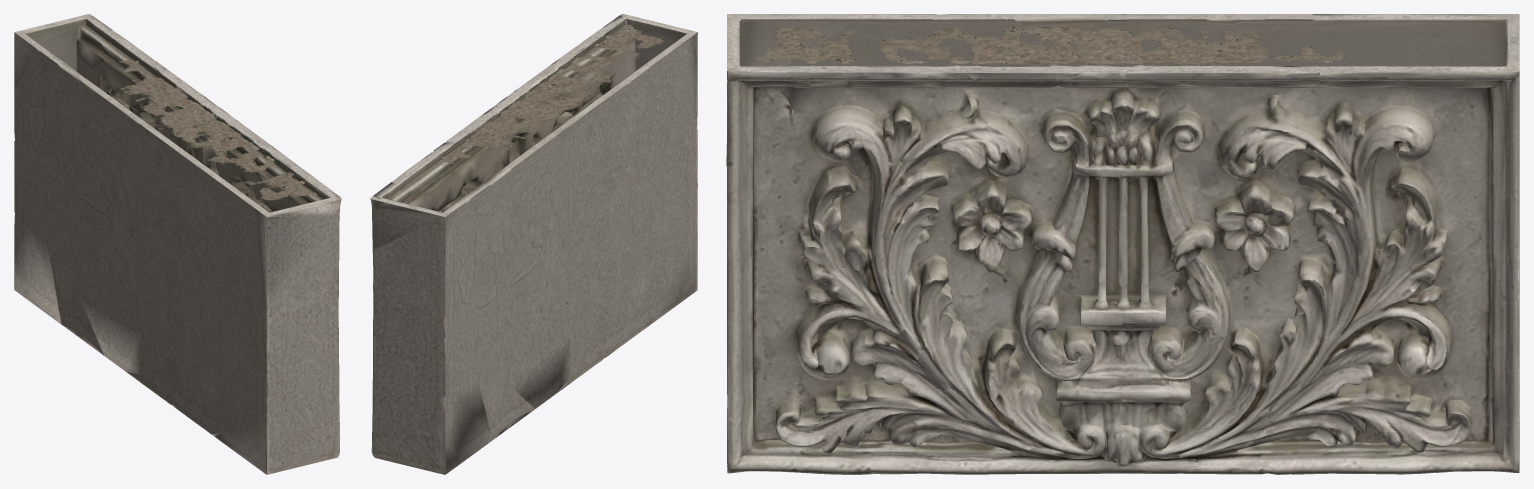
The model's file is relief-6.glb.
3 renders of one model, left to right at view 1: azimuth 30°, elevation 25°; view 2: azimuth 150°, elevation 25°; view 3: azimuth 270°, elevation 25°, orthographic. The views are drawn at different scales.
Visible parts, largest first — view 1: tripo_node_3a7adda7-f94a-40d0-b8b8-df14ac11d140; view 2: tripo_node_3a7adda7-f94a-40d0-b8b8-df14ac11d140; view 3: tripo_node_3a7adda7-f94a-40d0-b8b8-df14ac11d140.
Part boxes in pixels (x1=…): tripo_node_3a7adda7-f94a-40d0-b8b8-df14ac11d140: x1=14, y1=14, x2=341, y2=474; tripo_node_3a7adda7-f94a-40d0-b8b8-df14ac11d140: x1=370, y1=14, x2=697, y2=474; tripo_node_3a7adda7-f94a-40d0-b8b8-df14ac11d140: x1=726, y1=14, x2=1519, y2=474.
Size of the model in its own units: 0.2021 by 0.5641 by 1.
Materials: 1 (1 with a texture image).
